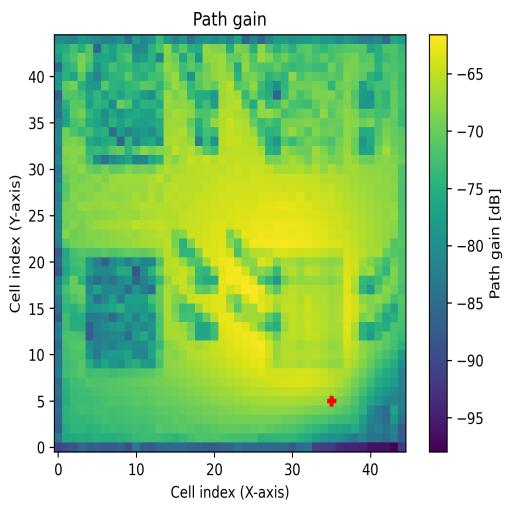Concrete: (264, 44, 359, 164)
Glass: (86, 53, 164, 165)
Metal: (274, 256, 344, 369)
Wood: (86, 257, 164, 368)
